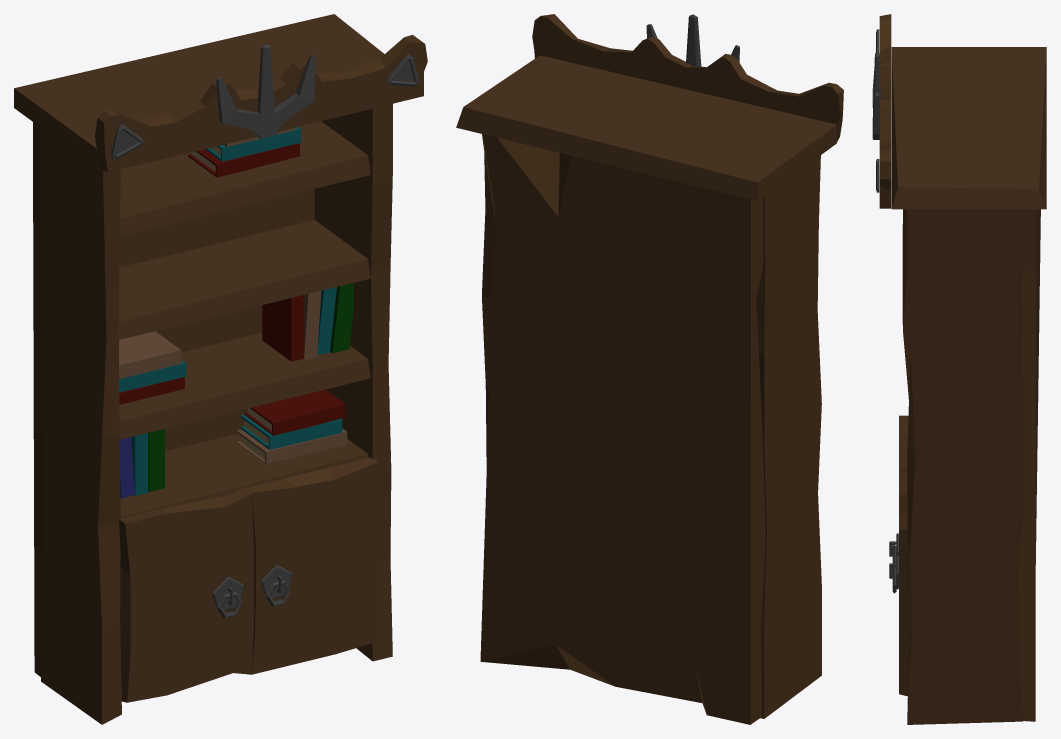
Rendered from Шкаф 1.fbx.
The picture shows the model from 3 angles, left to right: view 1: azimuth 30°, elevation 25°; view 2: azimuth 150°, elevation 25°; view 3: azimuth 270°, elevation 25°; orthographic projection. The views are drawn at different scales.
Visible parts, largest first — view 1: Cube.028, Cube.017, Cube.008, Cube.006, Cube.004, Cube.023, Cube.001; view 2: Cube.028; view 3: Cube.028.
Boxes of the visible parts, x1,y1,x2,y2 form: Cube.028: [14, 14, 427, 724]; Cube.017: [120, 433, 368, 518]; Cube.008: [236, 389, 347, 464]; Cube.006: [262, 283, 353, 361]; Cube.004: [119, 331, 186, 404]; Cube.023: [188, 127, 301, 177]; Cube.001: [119, 428, 164, 498]; Cube.028: [456, 14, 843, 724]; Cube.028: [872, 14, 1046, 724].
Size of the model in its own units: 324 by 625 by 162.
